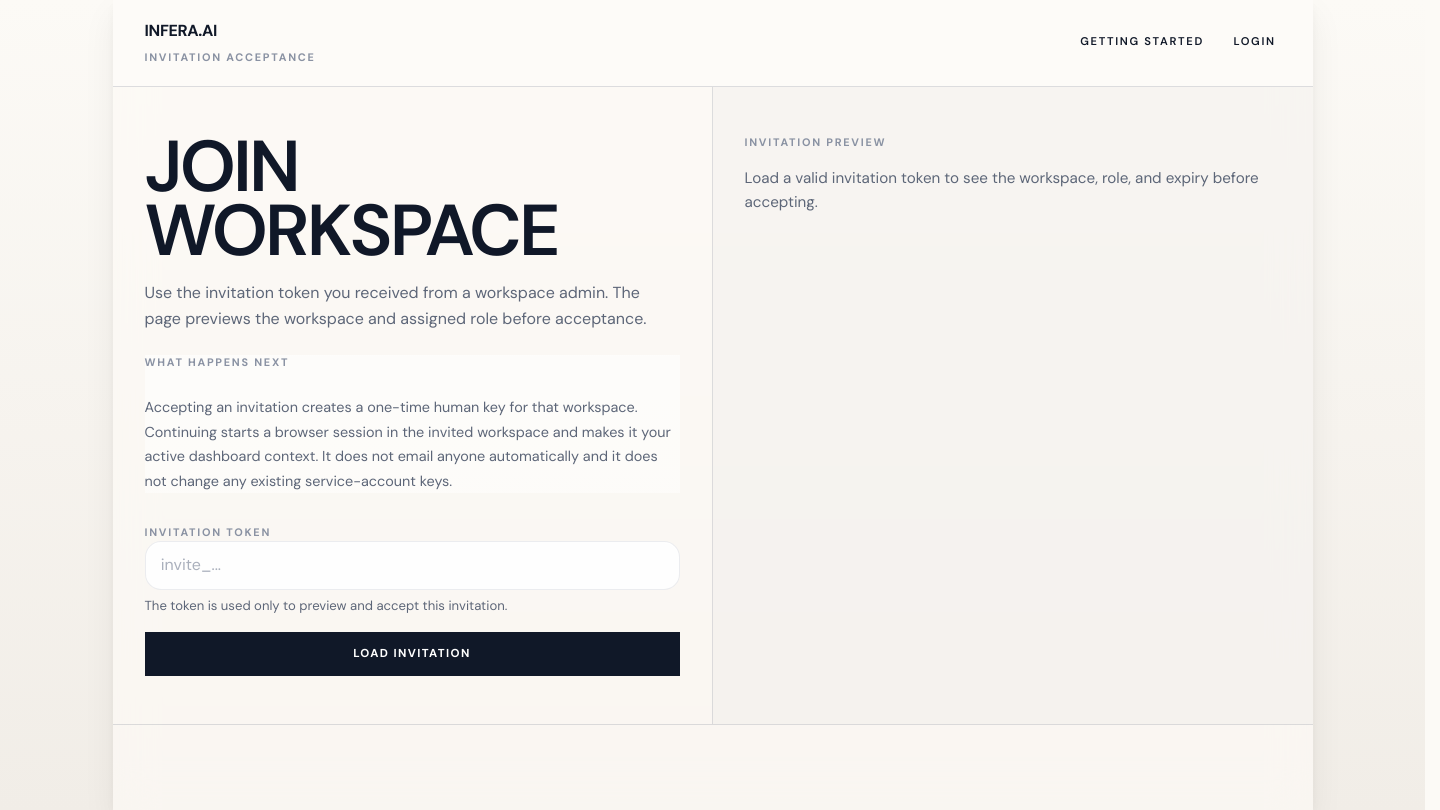
it: AcceptInvitation › labels the token input and gives recovery guidance for an empty submission
Expected: the heading "JOIN WORKSPACE" is shown, [144,120,558,277]
Expected: the field labelled "INVITATION TOKEN" is shown, [144,541,680,590]
Click the button "LOAD INVITATION": (412, 654) [144,632,680,676]
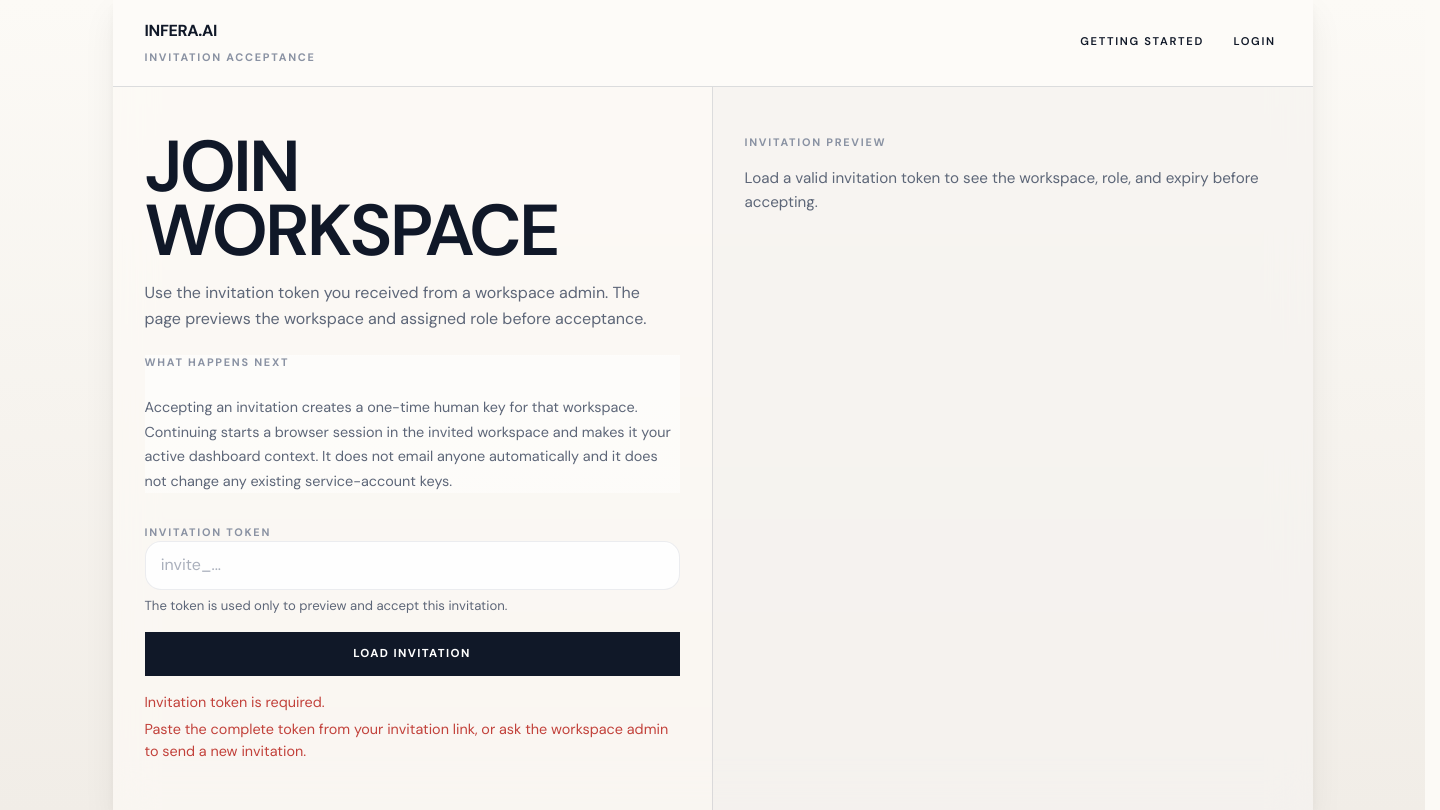
Now the message shows "Invitation token is required.", box [144,693,324,711]
Now the message shows "Paste the complete token", box [144,720,668,760]
